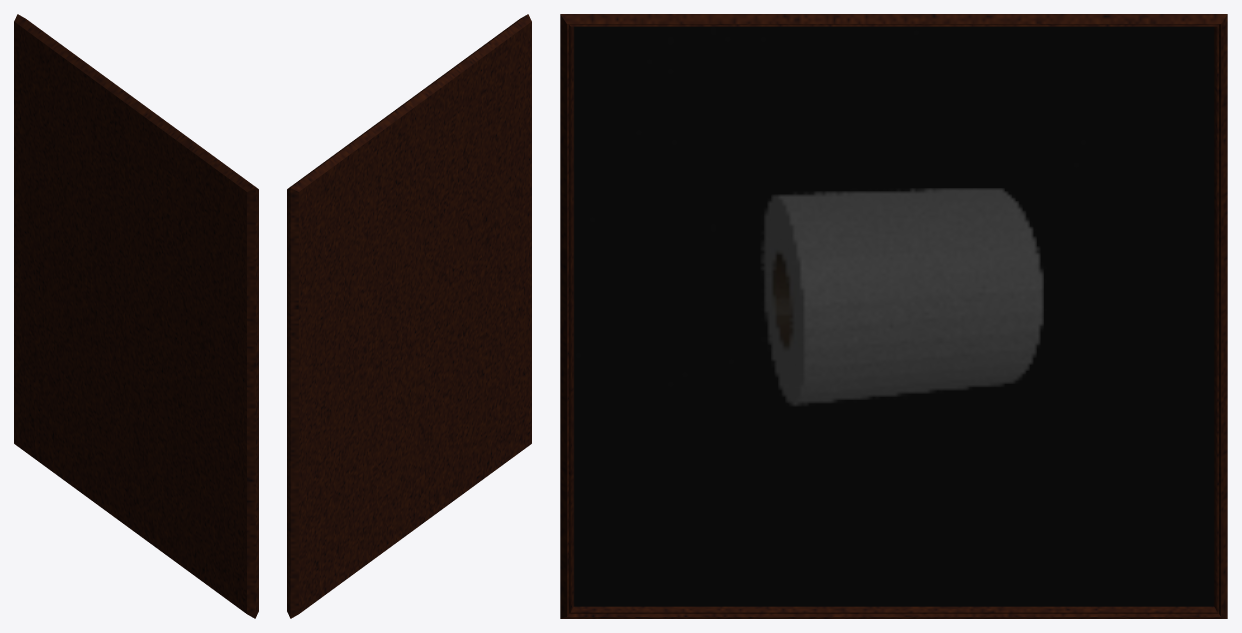
File: image_paper.fbx
3 views of the same model, side by side, from view 1: azimuth 30°, elevation 25°; view 2: azimuth 150°, elevation 25°; view 3: azimuth 270°, elevation 25° (orthographic). The views are drawn at different scales.
Visible parts, largest first — view 1: image_paper_Baked; view 2: image_paper_Baked; view 3: image_paper_Baked.
Boxes of the visible parts, x1,y1,x2,y2 form: image_paper_Baked: (14,14,258,618); image_paper_Baked: (287,14,531,618); image_paper_Baked: (560,14,1227,618).
Bounding box in the file's own units: 1.16 × 40.82 × 40.82.
1 material, 1 textured.
